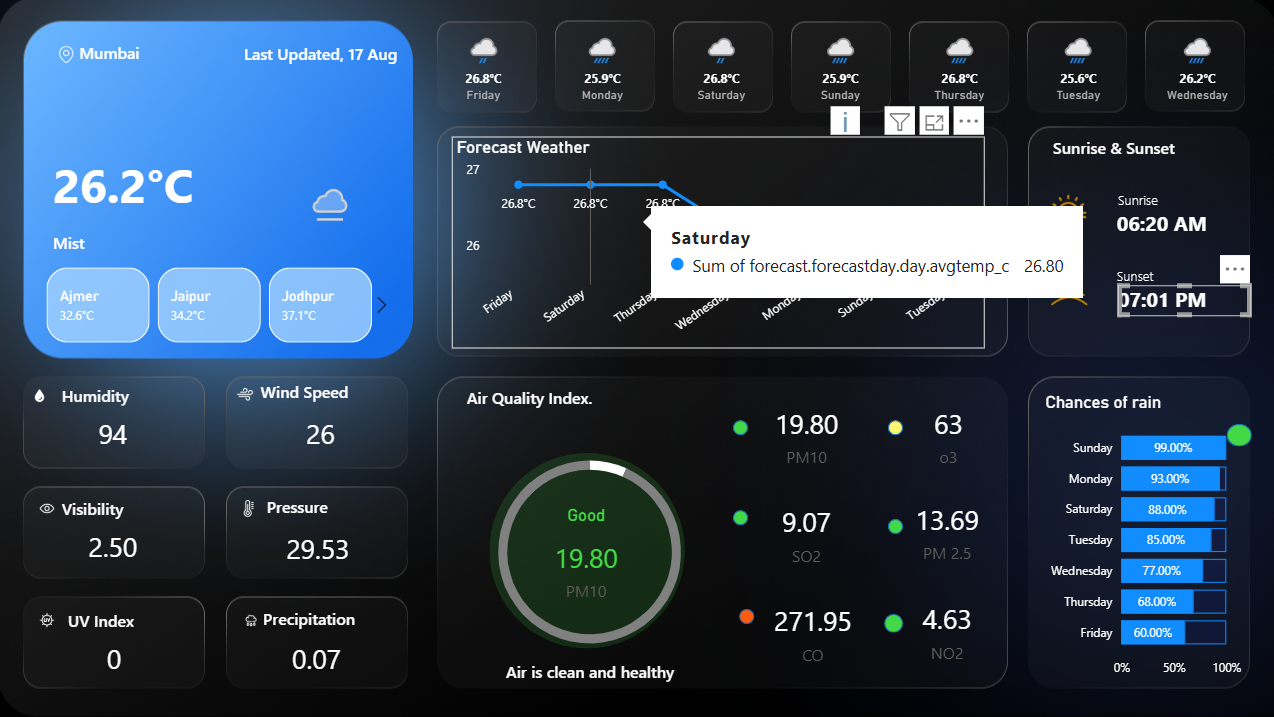

The page's visual inventory and layout, read from the dashboard file:
{"tool":"powerbi","page":{"name":"Page 1","canvas":[1280,720],"ordinal":0},"visuals":[{"type":"advancedSlicerVisual","fields":{"Values":["Locations.location.name"]},"box":[23.3,263.5,376,85.1],"z":0},{"type":"shape","box":[54.9,153.7,266.2,59],"z":1000},{"type":"shape","box":[54.9,231.9,266.2,26.1],"z":2000},{"type":"shape","box":[81.9,42.6,133,26.3],"z":3000},{"type":"shape","box":[237.4,43.3,161.9,25.2],"z":4000},{"type":"cardVisual","fields":{"Data":["Min(Current.current.condition.icon)"]},"box":[268.2,160,105.5,84.5],"z":5000},{"type":"image","box":[45.9,42.6,43.7,26.3],"z":6000},{"type":"image","box":[35,496.7,28.3,26.7],"z":7000},{"type":"image","box":[27.4,384.7,27.4,23.7],"z":8000},{"type":"image","box":[233.3,381.7,26.7,27.2],"z":9000},{"type":"image","box":[237.2,496.7,26.7,26.7],"z":10000},{"type":"image","box":[35,608.3,28.3,25],"z":11000},{"type":"image","box":[237.2,610,31.1,23.3],"z":12000},{"type":"shape","title":"Humidity","box":[63.8,385,117.5,23.8],"z":13000},{"type":"shape","title":"Visibility","box":[63.8,498.8,117.5,23.8],"z":14000},{"type":"shape","title":"Wind Speed","box":[262.5,381.2,117.5,23.8],"z":15000},{"type":"shape","title":"Precipitation","box":[265,608.8,123.8,25],"z":16000},{"type":"shape","title":"Pressure","box":[268.8,496.2,117.5,23.8],"z":17000},{"type":"shape","title":"UV Index","box":[70,610,117.5,23.8],"z":18000},{"type":"card","fields":{"Values":["Sum(Current.current.humidity)"]},"box":[49.2,408.3,132.5,55],"z":19000},{"type":"card","fields":{"Values":["Sum(Current.current.uv)"]},"box":[50,634.2,132.5,55],"z":20000},{"type":"card","fields":{"Values":["Sum(Current.current.pressure_in)"]},"box":[254.2,523.3,132.5,55],"z":21000},{"type":"card","fields":{"Values":["Sum(Current.current.vis_km)"]},"box":[49.2,520.8,132.5,55],"z":22000},{"type":"card","fields":{"Values":["Sum(Current.current.wind_kph)"]},"box":[256.7,409.2,132.5,55],"z":23000},{"type":"card","fields":{"Values":["Sum(Current.current.precip_in)"]},"box":[252.5,633.3,132.5,55],"z":24000},{"type":"advancedSlicerVisual","fields":{"Values":["Forecast_Day.Day_Name"]},"box":[425,22.5,837.5,93.8],"z":25000},{"type":"lineChart","title":"Forecast Weather ","fields":{"Y":["Sum(Forecast_Day.forecast.forecastday.day.avgtemp_c)"],"Category":["Forecast_Day.Day_Name"]},"box":[453.3,137.8,533.3,212.2],"z":26000},{"type":"shape","title":"Sunrise & Sunset","box":[1054.5,137.3,169.1,22.7],"z":27000},{"type":"shape","box":[1120.1,286.8,132.7,30.9],"z":28000},{"type":"shape","box":[1119,210.1,135,28.8],"z":29000},{"type":"shape","title":"Sunset","box":[1119.2,267.7,133.6,19.1],"z":30000},{"type":"shape","title":"Sunrise","box":[1120.1,191.3,133.6,19.1],"z":31000},{"type":"image","box":[1041.9,263.8,57.5,59.4],"z":32000},{"type":"image","box":[1047.5,187.5,45.6,46.2],"z":33000},{"type":"hundredPercentStackedBarChart","title":"Chances of rain ","fields":{"Category":["Forecast_Day.Day_Name"],"Y":["Sum(Forecast_Day.forecast.forecastday.day.daily_chance_of_rain)","Locations.Left_value_rain"]},"box":[1042,393,206,295],"z":34000},{"type":"card","title":"PM10","fields":{"Values":["Sum(Current.current.air_quality.pm10)"]},"box":[760,400,97.5,72.5],"z":35000},{"type":"card","title":"PM10","fields":{"Values":["Sum(Current.current.air_quality.no2)"]},"box":[900,595,98.8,73.8],"z":36000},{"type":"card","title":"PM10","fields":{"Values":["Sum(Current.current.air_quality.co)"]},"box":[766.2,596.9,97.7,72.3],"z":37000},{"type":"card","title":"PM10","fields":{"Values":["Sum(Current.current.air_quality.pm2_5)"]},"box":[900,496.2,98.8,72.5],"z":38000},{"type":"card","title":"PM10","fields":{"Values":["Sum(Current.current.air_quality.so2)"]},"box":[760,498.8,97.5,72.5],"z":39000},{"type":"card","title":"PM10","fields":{"Values":["Sum(Current.current.air_quality.o3)"]},"box":[901.2,400,98.8,72.5],"z":40000},{"type":"shape","box":[741.5,610,15,15],"z":41000},{"type":"shape","box":[735,421.2,15,15],"z":42000},{"type":"shape","box":[735,511.2,15,15],"z":43000},{"type":"shape","box":[1228.8,425,25,22.5],"z":44000},{"type":"shape","box":[890,421.2,15,15],"z":45000},{"type":"shape","box":[491.4,454.3,195.7,195.7],"z":46000},{"type":"shape","box":[890,520,15,15],"z":47000},{"type":"shape","box":[886.2,615,18.8,18.8],"z":48000},{"type":"card","fields":{"Values":["Sum(Current.current.air_quality.pm10)"]},"box":[526,506,124,109],"z":49000},{"type":"donutChart","title":"PM10","fields":{"Y":["Sum(Current.current.air_quality.pm10)","Locations.Left_value_pm10"]},"box":[472.9,427.1,238.6,251.4],"z":50000},{"type":"shape","title":"Air Quality Index.","box":[469,388,241,23],"z":51000},{"type":"shape","box":[448.3,660.8,286.7,21.7],"z":52000}]}

Visuals, with their boxes in screenshot pixels (x1, y1, x2, y2), scaled from the page's 1280x720 canvas onto the 1274x717 screenshot:
advancedSlicerVisual - Locations.location.name: (23, 262, 397, 347)
shape: (55, 153, 320, 212)
shape: (55, 231, 320, 257)
shape: (82, 42, 214, 69)
shape: (236, 43, 397, 68)
cardVisual - Min(Current.current.condition.icon): (267, 159, 372, 243)
image: (46, 42, 89, 69)
image: (35, 495, 63, 521)
image: (27, 383, 55, 407)
image: (232, 380, 259, 407)
image: (236, 495, 263, 521)
image: (35, 606, 63, 631)
image: (236, 607, 267, 631)
"Humidity" shape: (64, 383, 180, 407)
"Visibility" shape: (64, 497, 180, 520)
"Wind Speed" shape: (261, 380, 378, 403)
"Precipitation" shape: (264, 606, 387, 631)
"Pressure" shape: (268, 494, 384, 518)
"UV Index" shape: (70, 607, 187, 631)
card - Sum(Current.current.humidity): (49, 407, 181, 461)
card - Sum(Current.current.uv): (50, 632, 182, 686)
card - Sum(Current.current.pressure_in): (253, 521, 385, 576)
card - Sum(Current.current.vis_km): (49, 519, 181, 573)
card - Sum(Current.current.wind_kph): (255, 407, 387, 462)
card - Sum(Current.current.precip_in): (251, 631, 383, 685)
advancedSlicerVisual - Forecast_Day.Day_Name: (423, 22, 1257, 116)
"Forecast Weather " lineChart: (451, 137, 982, 349)
"Sunrise & Sunset" shape: (1050, 137, 1218, 159)
shape: (1115, 286, 1247, 316)
shape: (1114, 209, 1248, 238)
"Sunset" shape: (1114, 267, 1247, 286)
"Sunrise" shape: (1115, 191, 1248, 210)
image: (1037, 263, 1094, 322)
image: (1043, 187, 1088, 233)
"Chances of rain " hundredPercentStackedBarChart: (1037, 391, 1242, 685)
"PM10" card: (756, 398, 853, 471)
"PM10" card: (896, 593, 994, 666)
"PM10" card: (763, 594, 860, 666)
"PM10" card: (896, 494, 994, 566)
"PM10" card: (756, 497, 853, 569)
"PM10" card: (897, 398, 995, 471)
shape: (738, 607, 753, 622)
shape: (732, 419, 746, 434)
shape: (732, 509, 746, 524)
shape: (1223, 423, 1248, 446)
shape: (886, 419, 901, 434)
shape: (489, 452, 684, 647)
shape: (886, 518, 901, 533)
shape: (882, 612, 901, 631)
card - Sum(Current.current.air_quality.pm10): (524, 504, 647, 612)
"PM10" donutChart: (471, 425, 708, 676)
"Air Quality Index." shape: (467, 386, 707, 409)
shape: (446, 658, 732, 680)
